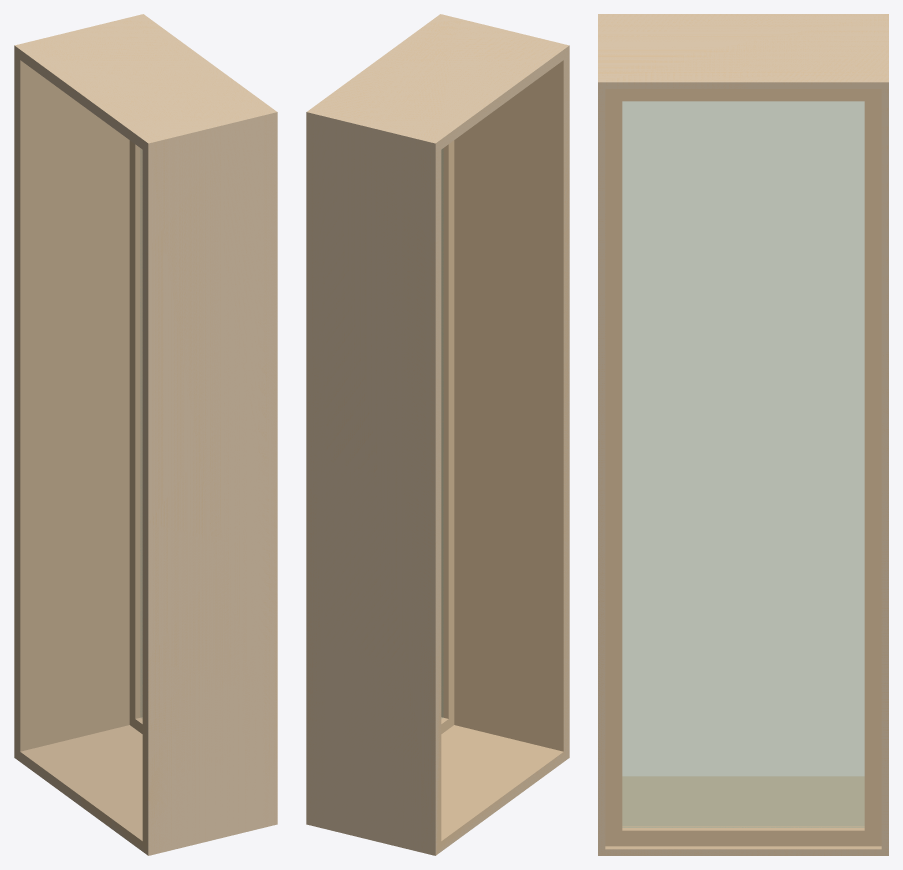
The model's file is window-750mm-x-2200mm.glb.
3 renders of one model, left to right at view 1: azimuth 30°, elevation 25°; view 2: azimuth 150°, elevation 25°; view 3: azimuth 270°, elevation 25°, orthographic. The views are drawn at different scales.
Visible parts, largest first — view 1: 1hOSvn6df7F8_7GcBWlRLx, 1xS3BCk291UvhgP2dvNrdW; view 2: 1hOSvn6df7F8_7GcBWlRLx, 1xS3BCk291UvhgP2dvNrdW; view 3: 1xS3BCk291UvhgP2dvNrdW, 1hOSvn6df7F8_7GcBWlRLx.
Part boxes in pixels (x1,y1,x2,y2): 1hOSvn6df7F8_7GcBWlRLx: [14, 14, 277, 855]; 1xS3BCk291UvhgP2dvNrdW: [15, 55, 276, 852]; 1hOSvn6df7F8_7GcBWlRLx: [306, 14, 569, 855]; 1xS3BCk291UvhgP2dvNrdW: [308, 16, 568, 852]; 1xS3BCk291UvhgP2dvNrdW: [598, 14, 888, 855]; 1hOSvn6df7F8_7GcBWlRLx: [598, 14, 888, 855].
Size of the model in its own units: 0.417 by 2.2 by 0.75.
